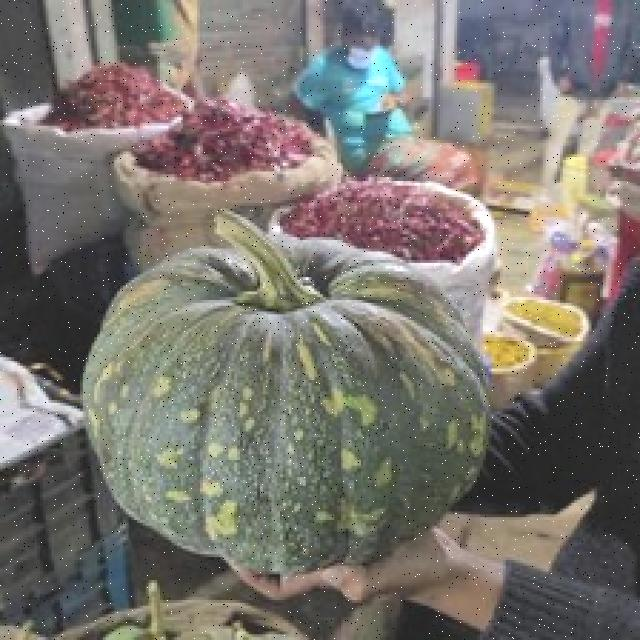Pumpkin: (70, 224, 507, 624)
